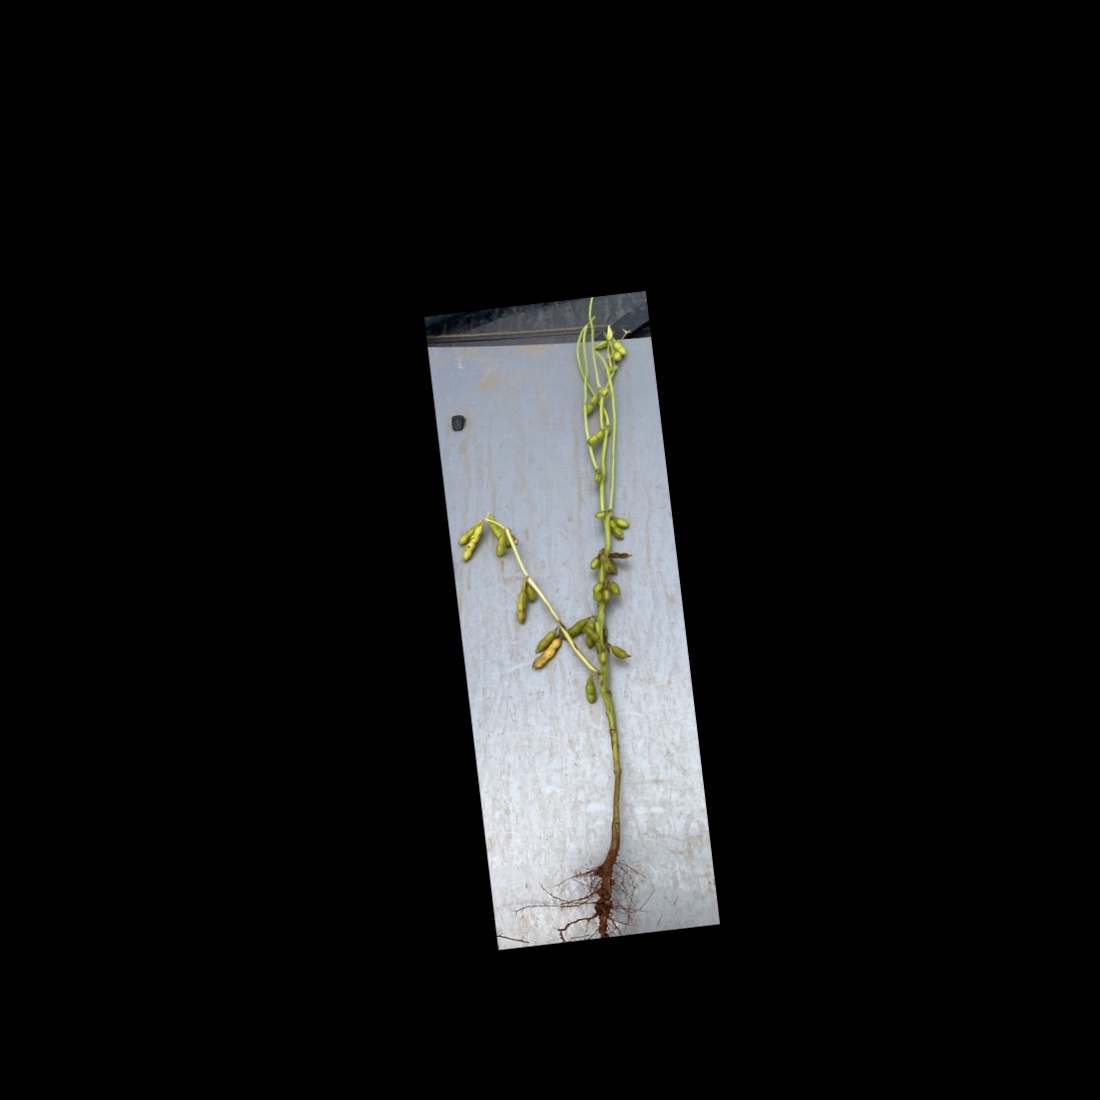pod: (511, 590, 531, 629), (604, 638, 632, 664), (582, 672, 601, 705), (582, 424, 609, 447), (491, 532, 508, 563), (579, 391, 599, 417), (604, 577, 625, 597), (607, 548, 635, 561), (588, 582, 604, 603), (591, 338, 609, 352)
soy: (429, 300, 700, 915)
